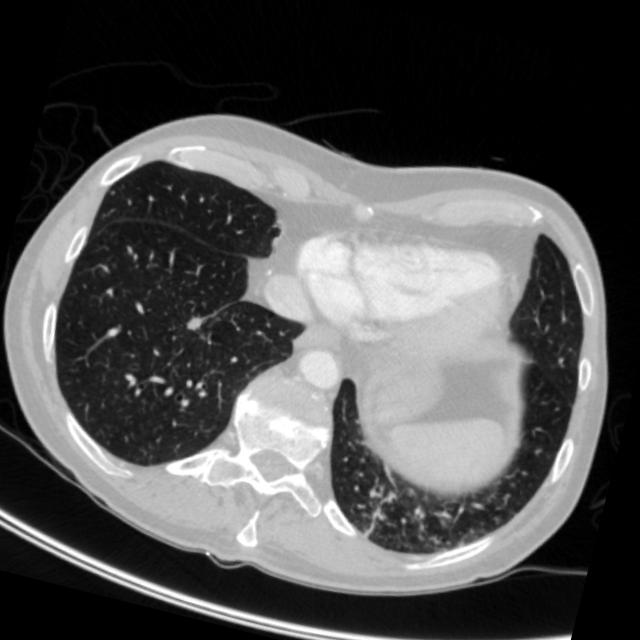nodule: (174, 304, 212, 343)
